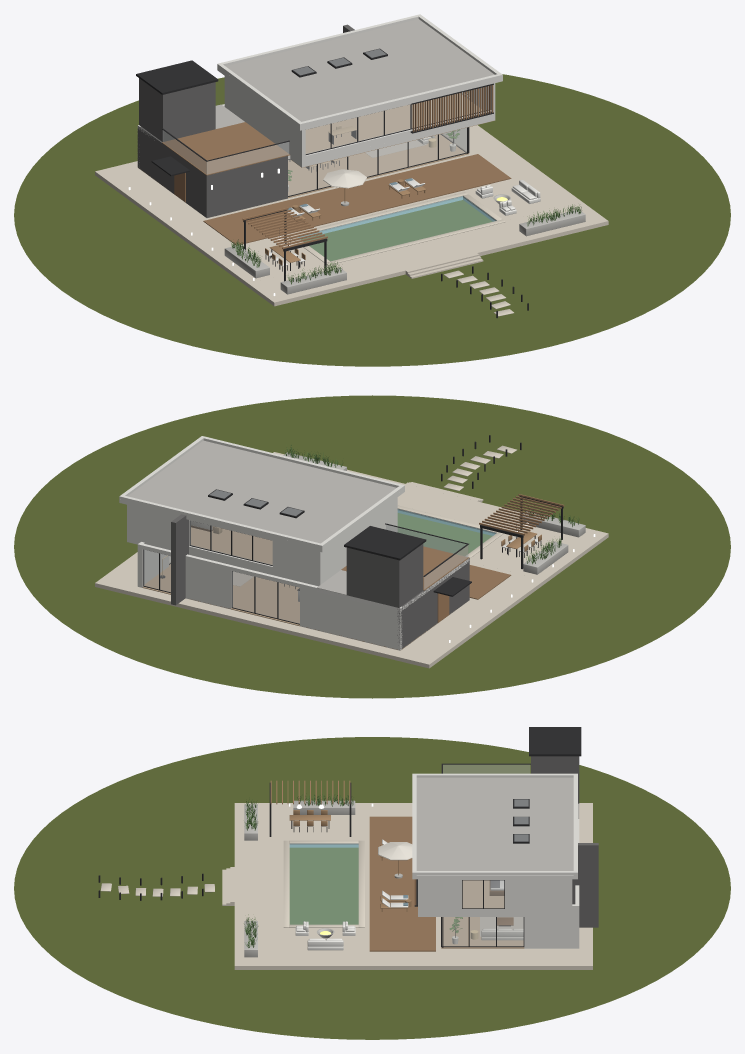
The model's file is house.glb.
3 renders of one model, top to bottom at view 1: azimuth 30°, elevation 25°; view 2: azimuth 150°, elevation 25°; view 3: azimuth 270°, elevation 25°, orthographic.
Parts seen in each view (by area): view 1: Lawn_Pad, UF_Roof_Gravel, Deck, Plinth_S, Plinth_N, Water, Terrace_Floor, Tower, GF_Front_Stone, GF_Floor, UF_Floor, UF_Left (+26 smaller); view 2: Lawn_Pad, UF_Roof_Gravel, Plinth_N, GF_Back_A, Tower, Plinth_S, GF_Floor, GF_Left, GF_Back_B, Plinth_W, Water, UF_Floor (+24 smaller); view 3: Lawn_Pad, UF_Roof_Gravel, Plinth_S, Plinth_N, Deck, Water, Plinth_E, UF_Right_B, GF_Right_Back, Rear_Fin, Plinth_W, Tower_Cap (+20 smaller).
Boxes of the visible parts, box(x1,y1,x2,y2) form: Lawn_Pad: box(14, 74, 730, 366); UF_Roof_Gravel: box(225, 19, 494, 121); Deck: box(203, 154, 511, 245); Plinth_S: box(248, 202, 608, 306); Plinth_N: box(95, 125, 544, 259); Water: box(298, 197, 494, 260); Terrace_Floor: box(162, 122, 289, 175); Tower: box(139, 78, 215, 141); GF_Front_Stone: box(206, 156, 287, 217); GF_Floor: box(138, 134, 469, 198); UF_Floor: box(305, 93, 481, 153); UF_Left: box(224, 76, 305, 163); Lawn_Pad: box(14, 395, 730, 698); UF_Roof_Gravel: box(128, 440, 396, 543); Plinth_N: box(95, 552, 544, 668); GF_Back_A: box(300, 582, 402, 650); Tower: box(346, 544, 423, 607); Plinth_S: box(273, 452, 608, 555); GF_Floor: box(142, 562, 456, 650); GF_Left: box(397, 559, 468, 649); GF_Back_B: box(185, 554, 232, 609); Plinth_W: box(469, 533, 582, 583); Water: box(397, 510, 494, 553); UF_Floor: box(191, 527, 272, 564); Lawn_Pad: box(14, 737, 730, 1039); UF_Roof_Gravel: box(416, 777, 573, 870); Plinth_S: box(234, 803, 286, 969); Plinth_N: box(362, 803, 592, 969); Deck: box(369, 816, 435, 951); Water: box(289, 845, 358, 924); Plinth_E: box(286, 928, 361, 969); UF_Right_B: box(505, 879, 568, 912); GF_Right_Back: box(524, 904, 579, 948); Rear_Fin: box(572, 843, 598, 927); Plinth_W: box(286, 803, 361, 840); Tower_Cap: box(529, 727, 581, 756).
Bounding box in the file's own units: 52 × 9.1 × 52.
